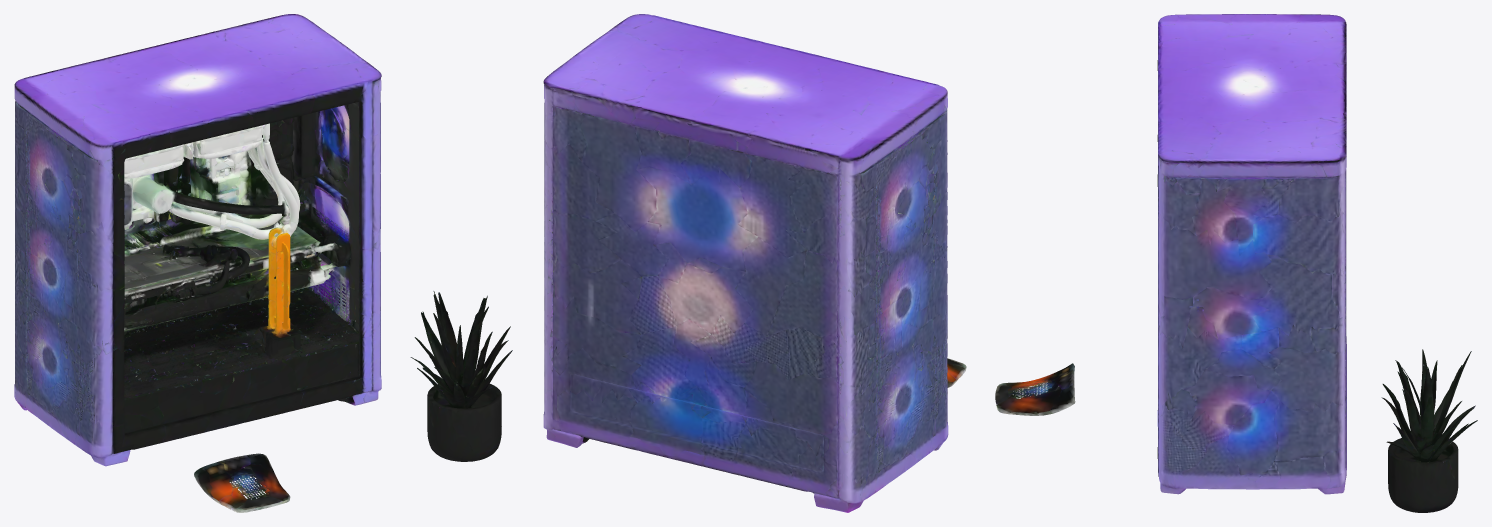
The picture shows the model from 3 angles, left to right: view 1: azimuth 30°, elevation 25°; view 2: azimuth 150°, elevation 25°; view 3: azimuth 270°, elevation 25°; orthographic projection. The views are drawn at different scales.
Size of the model in its own units: 1.69 by 1.48 by 1.9.
1 material, 1 textured.
